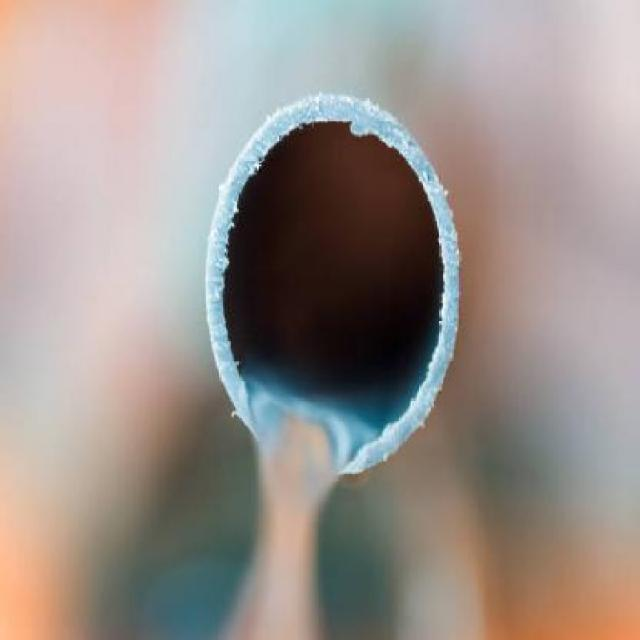pipe: (205, 94, 459, 477)
